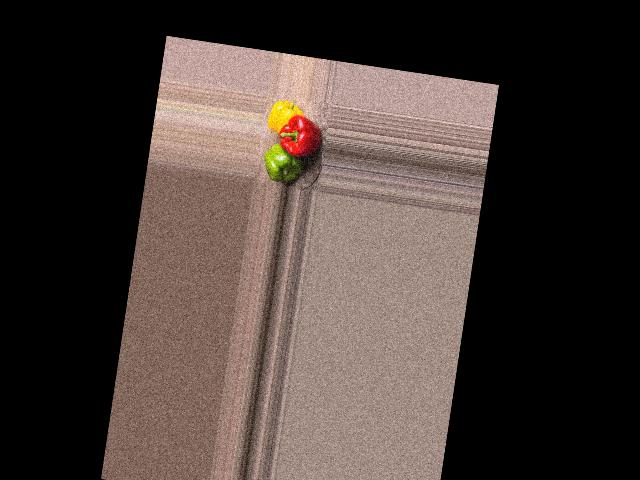bell_pepper: (265, 98, 305, 135)
